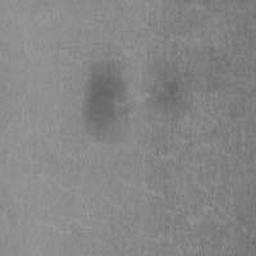Oil spot: (79, 38, 140, 146), (145, 56, 202, 134), (174, 0, 242, 8)
